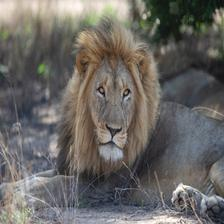Lion: (62, 27, 224, 220)
